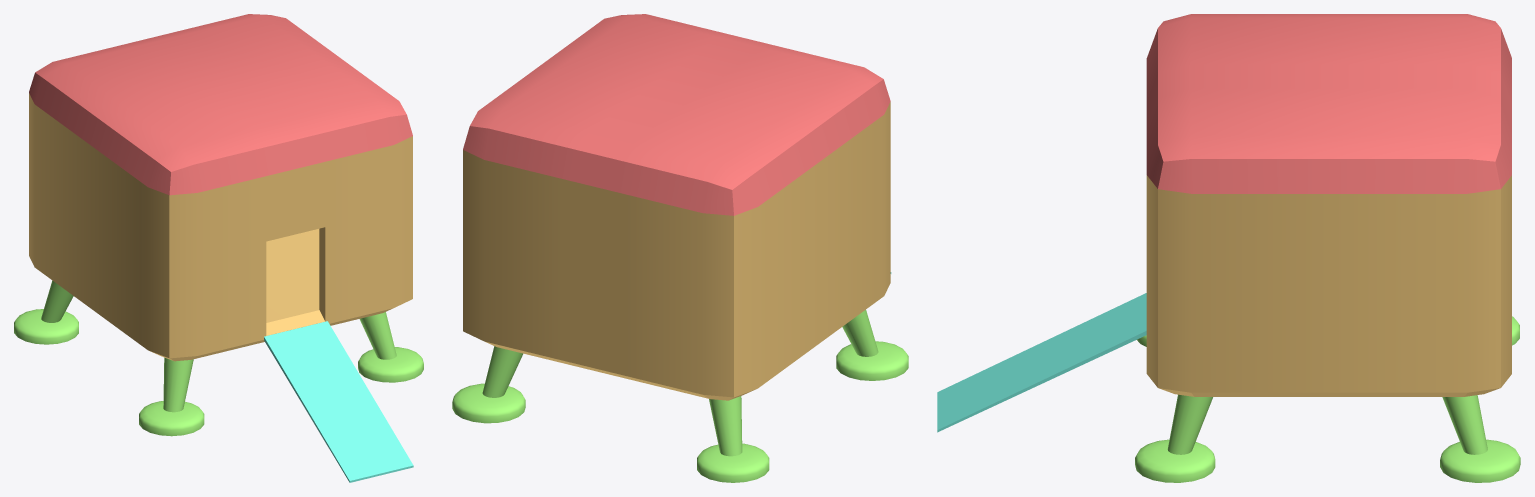
File: Space_Module_V3.fbx
3 renders of one model, left to right at view 1: azimuth 30°, elevation 25°; view 2: azimuth 150°, elevation 25°; view 3: azimuth 270°, elevation 25°, orthographic. The views are drawn at different scales.
Visible parts, largest first — view 1: Module004, Module_Roof001, Ramp002, Module_Leg005, Module_Leg007, Module_Leg006; view 2: Module004, Module_Roof001, Module_Leg006, Module_Leg008, Module_Leg005; view 3: Module004, Module_Roof001, Ramp002, Module_Leg007, Module_Leg008.
Part boxes in pixels (x1=…): Module004: x1=29, y1=93, x2=412, y2=361; Module_Roof001: x1=29, y1=14, x2=412, y2=195; Ramp002: x1=264, y1=321, x2=413, y2=482; Module_Leg005: x1=139, y1=357, x2=204, y2=436; Module_Leg007: x1=358, y1=312, x2=423, y2=382; Module_Leg006: x1=14, y1=280, x2=78, y2=344; Module004: x1=463, y1=102, x2=890, y2=400; Module_Roof001: x1=463, y1=14, x2=890, y2=215; Module_Leg006: x1=697, y1=396, x2=769, y2=482; Module_Leg008: x1=452, y1=346, x2=525, y2=423; Module_Leg005: x1=836, y1=310, x2=908, y2=380; Module004: x1=1146, y1=175, x2=1511, y2=396; Module_Roof001: x1=1146, y1=14, x2=1511, y2=193; Ramp002: x1=937, y1=293, x2=1146, y2=432; Module_Leg007: x1=1135, y1=394, x2=1215, y2=482; Module_Leg008: x1=1440, y1=395, x2=1520, y2=482.
Bounding box in the file's own units: 75.5 × 72.16 × 113.
